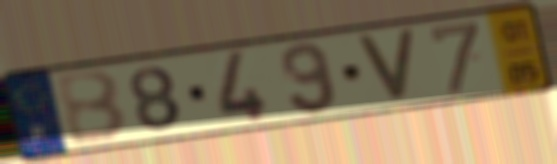4: (213, 48, 271, 127)
7: (427, 19, 482, 96)
8: (127, 65, 186, 133)
9: (277, 39, 341, 118)
B: (52, 68, 132, 148)
V: (351, 27, 419, 104)
